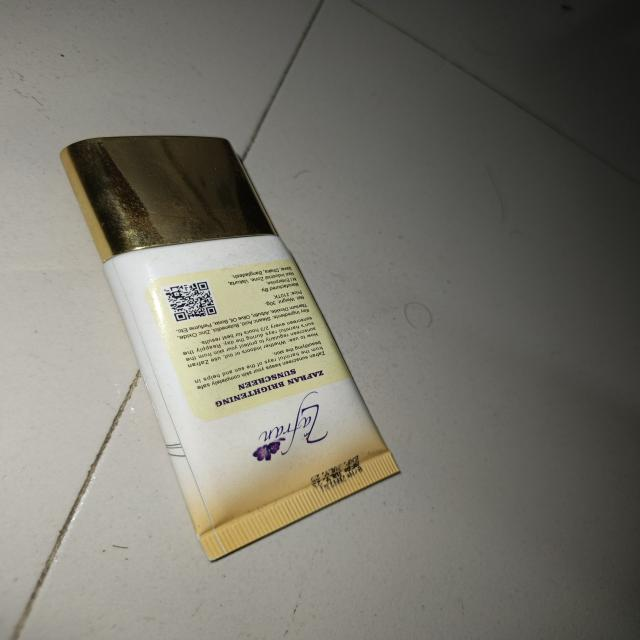Squeeze Tube: (42, 136, 406, 558)
